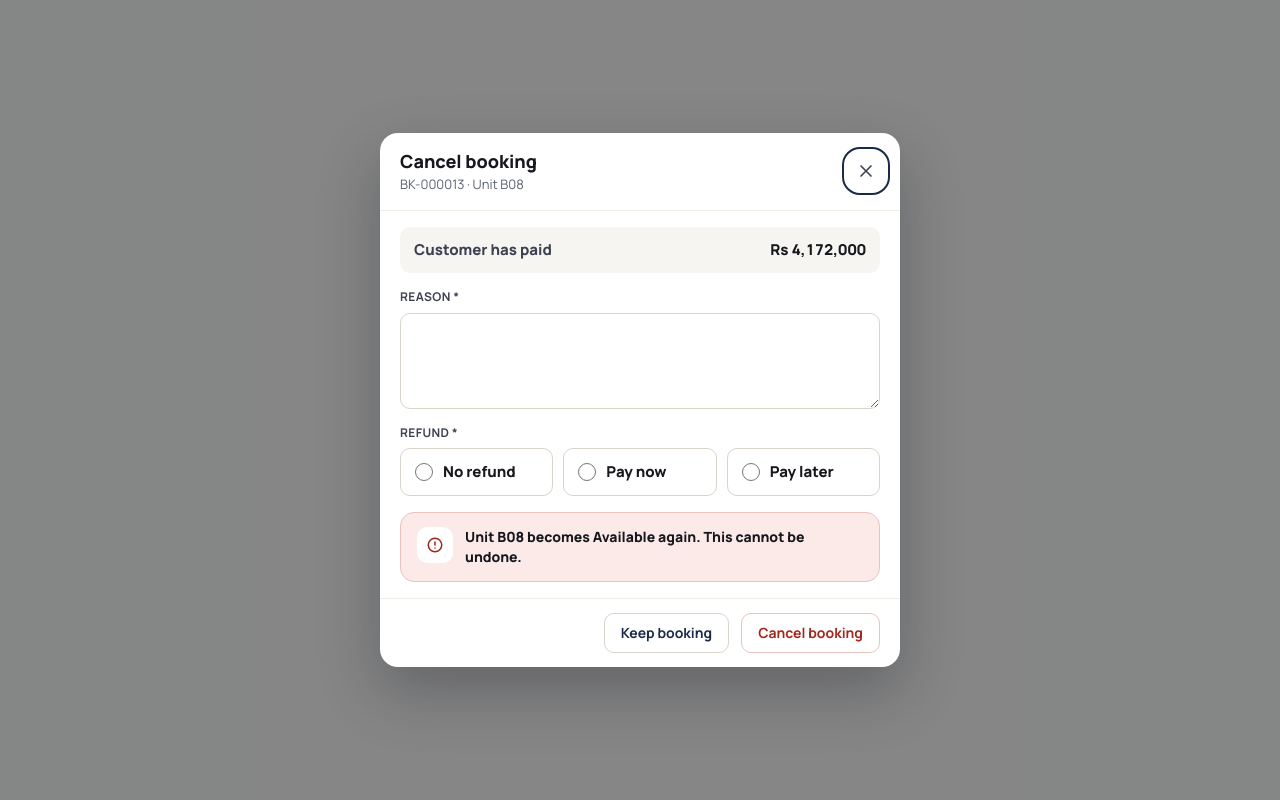
it: Cancel booking › does not send until the reason and the refund choice are given
Expected: the text "Customer has paid" is shown, [414,239,552,261]
Click the button "Cancel booking" at x=811, y=633, box [741,613,880,653]
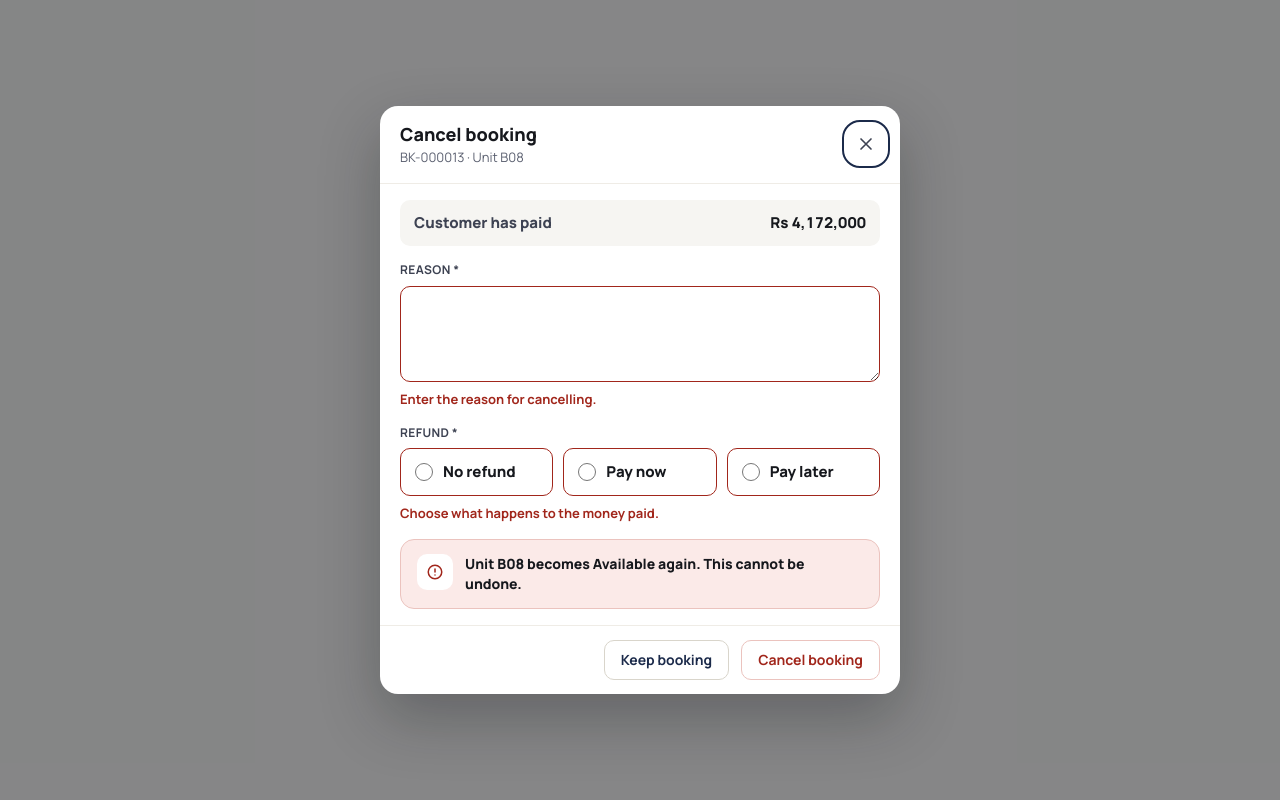
Expected: the text "Enter the reason for cancelling." is shown, [400,390,596,408]
Expected: the text "Choose what happens to the money paid." is shown, [400,504,659,522]
